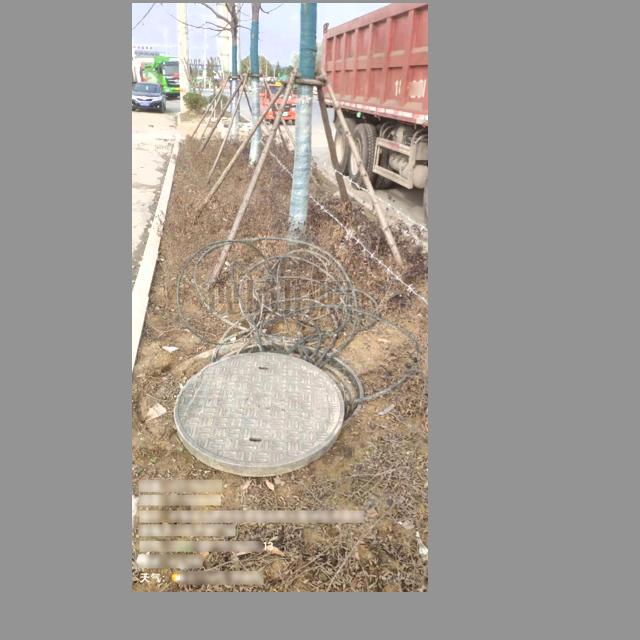uncovered: (173, 339, 361, 474)
